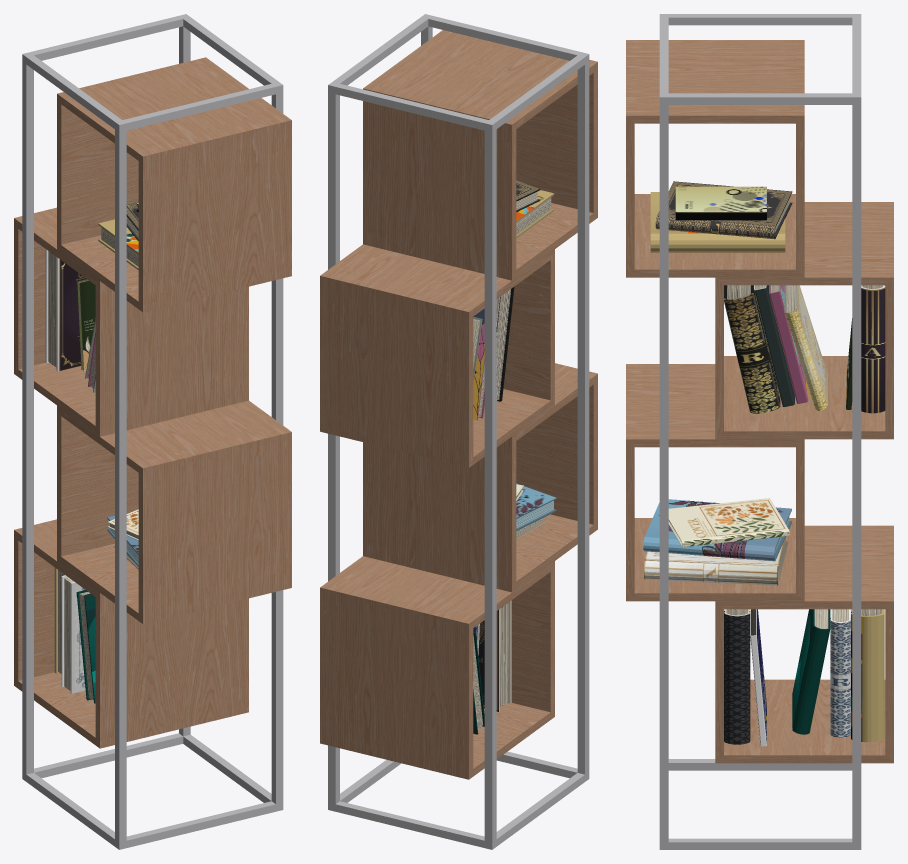
The model's file is bookcase.glb.
3 renders of one model, left to right at view 1: azimuth 30°, elevation 25°; view 2: azimuth 150°, elevation 25°; view 3: azimuth 270°, elevation 25°, orthographic. The views are drawn at different scales.
Visible parts, largest first — view 1: Shelf_1_Shelf_0, Shelf_frame_Shelf_frame_0, Book_1_Book_1_paper_0, Book_11_Book_11_0, Book_8_Book_8_0, Book_13_Book_13_0, Book_12_Book_12_0; view 2: Shelf_1_Shelf_0, Shelf_frame_Shelf_frame_0, Book_1_Book_1_paper_0, Book_7_Book_7_0, Book_16_Book_16_0, Book_15_Book_15_0; view 3: Shelf_1_Shelf_0, Shelf_frame_Shelf_frame_0, Book_4_Book_4_0, Book_1_Book_1_0, Book_3_Book_3_0, Book_7_Book_7_0, Book_17_Book_17_0, Book_9_Book_9_0, Book_11_Book_11_0, Book_16_Book_16_0, Book_2_Book_2_0, Book_14_Book_14_0 (+7 smaller).
Part boxes in pixels (x1=…): Shelf_1_Shelf_0: x1=14, y1=57, x2=291, y2=748; Shelf_frame_Shelf_frame_0: x1=22, y1=14, x2=283, y2=849; Book_1_Book_1_paper_0: x1=48, y1=216, x2=138, y2=700; Book_11_Book_11_0: x1=45, y1=249, x2=86, y2=371; Book_8_Book_8_0: x1=61, y1=575, x2=85, y2=693; Book_13_Book_13_0: x1=77, y1=279, x2=95, y2=371; Book_12_Book_12_0: x1=76, y1=590, x2=95, y2=703; Shelf_1_Shelf_0: x1=320, y1=30, x2=597, y2=779; Shelf_frame_Shelf_frame_0: x1=328, y1=14, x2=589, y2=849; Book_1_Book_1_paper_0: x1=473, y1=191, x2=551, y2=729; Book_7_Book_7_0: x1=478, y1=600, x2=511, y2=711; Book_16_Book_16_0: x1=516, y1=483, x2=556, y2=530; Book_15_Book_15_0: x1=473, y1=308, x2=484, y2=420; Shelf_1_Shelf_0: x1=626, y1=40, x2=893, y2=763; Shelf_frame_Shelf_frame_0: x1=659, y1=14, x2=861, y2=849; Book_4_Book_4_0: x1=668, y1=498, x2=789, y2=547; Book_1_Book_1_0: x1=724, y1=285, x2=780, y2=413; Book_3_Book_3_0: x1=644, y1=538, x2=788, y2=585; Book_7_Book_7_0: x1=724, y1=609, x2=750, y2=744; Book_17_Book_17_0: x1=851, y1=609, x2=884, y2=742; Book_9_Book_9_0: x1=675, y1=186, x2=766, y2=220; Book_11_Book_11_0: x1=861, y1=285, x2=885, y2=413; Book_16_Book_16_0: x1=643, y1=499, x2=791, y2=561; Book_2_Book_2_0: x1=655, y1=181, x2=792, y2=239; Book_14_Book_14_0: x1=650, y1=192, x2=785, y2=252.
Size of the model in its own units: 0.4407 by 1.86 by 0.6.
Materials: 22 (22 with a texture image).
